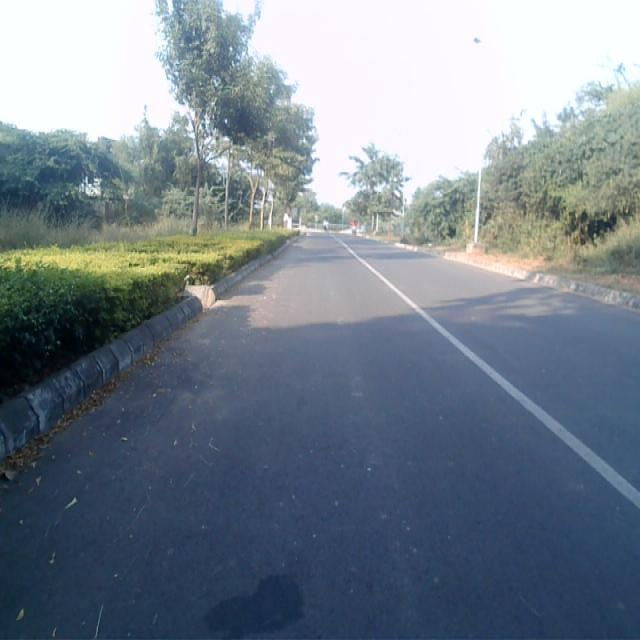lane: (0, 237, 640, 640)
